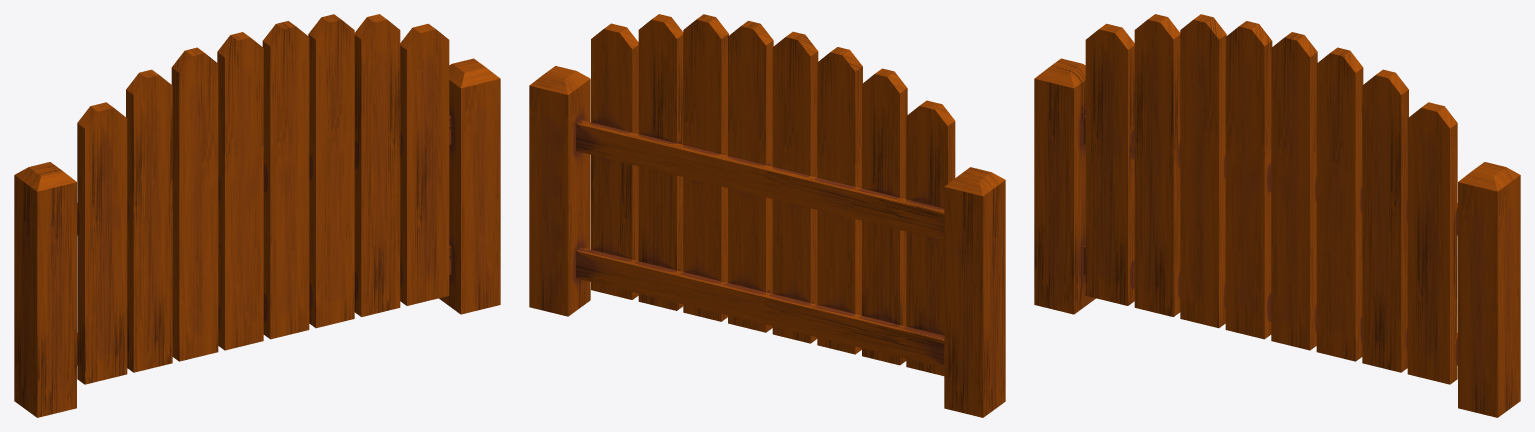
The model's file is Fence2.fbx.
3 renders of one model, left to right at view 1: azimuth 30°, elevation 25°; view 2: azimuth 150°, elevation 25°; view 3: azimuth 330°, elevation 25°, orthographic. The views are drawn at different scales.
Parts seen in each view (by area): view 1: Cube.040, Cube.038; view 2: Cube.040, Cube.038; view 3: Cube.040, Cube.038.
Boxes of the visible parts, x1,y1,x2,y2 form: Cube.040: (77,14,449,384); Cube.038: (14,58,500,417); Cube.040: (591,14,955,375); Cube.038: (529,66,1005,417); Cube.040: (1085,14,1457,384); Cube.038: (1034,58,1520,417).
Bounding box in the file's own units: 350 × 235 × 30.
Materials: 1 (1 with a texture image).
